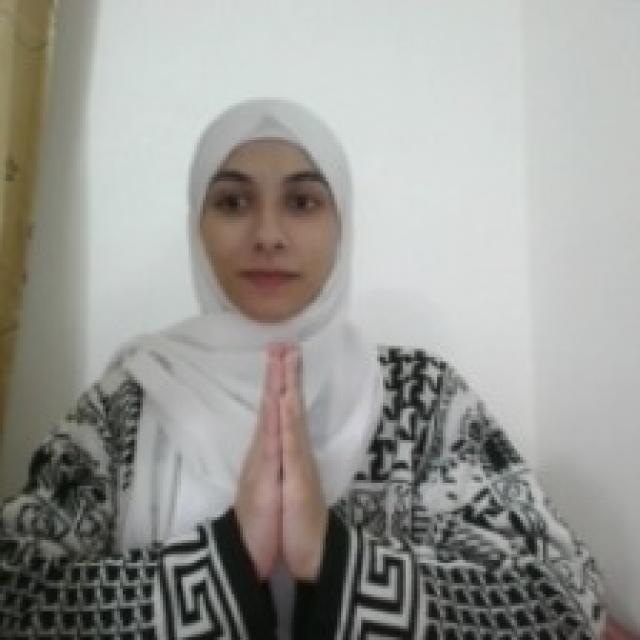sorry: (228, 331, 334, 586)
